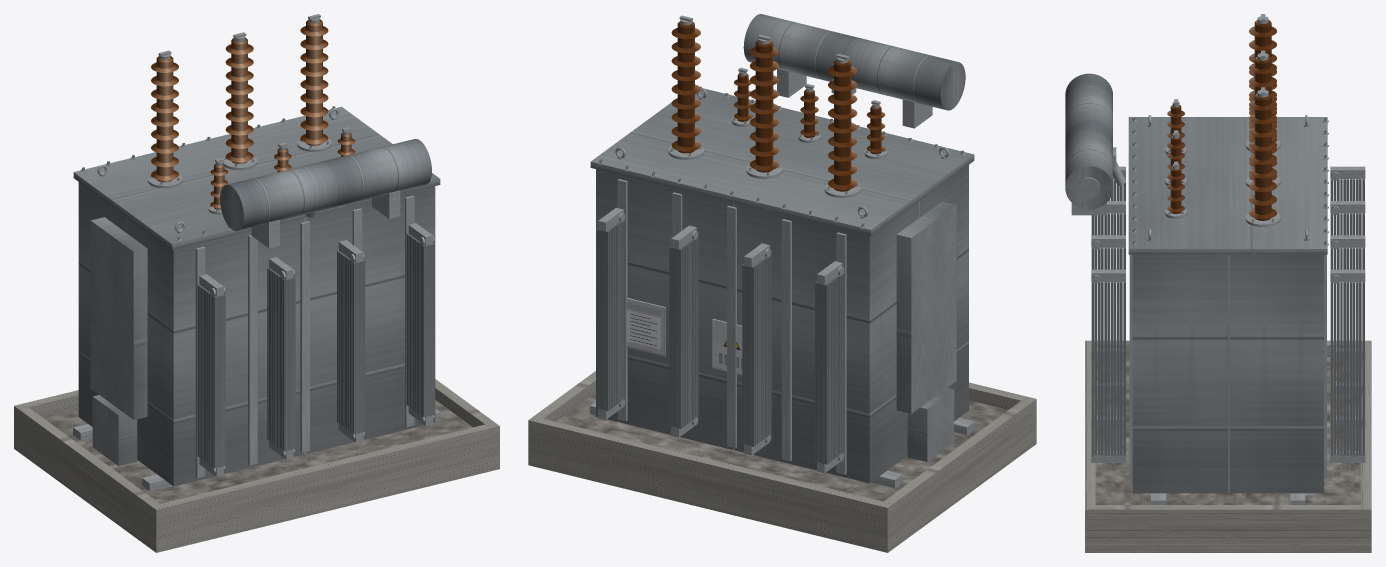
File: tx_substation.obj
The picture shows the model from 3 angles, left to right: view 1: azimuth 30°, elevation 25°; view 2: azimuth 150°, elevation 25°; view 3: azimuth 270°, elevation 25°; orthographic projection. The views are drawn at different scales.
Visible parts, largest first — view 1: tank, bund, radiator, cover, tapchanger, conservator, bushing_1, bushing_3, bushing_2, rails; view 2: tank, bund, cover, radiator, tapchanger, conservator, bushing_2, nameplate, bushing_3, bushing_1, rails, bushing_4 (+2 smaller); view 3: tank, bund, cover, radiator, conservator, bushing_3, bushing_2, bushing_1, bushing_6, bushing_5, bushing_4, flange_3 (+1 smaller).
Boxes of the visible parts, box(x1,y1,x2,y2) form: tank: box(78, 182, 435, 486); bund: box(14, 379, 499, 552); radiator: box(197, 223, 434, 476); cover: box(73, 106, 440, 250); tapchanger: box(90, 217, 147, 465); conservator: box(220, 139, 431, 248); bushing_1: box(151, 56, 178, 182); bushing_3: box(300, 19, 328, 145); bushing_2: box(225, 37, 253, 163); rails: box(73, 408, 440, 491); tank: box(596, 165, 968, 483); bund: box(528, 371, 1036, 552); cover: box(590, 86, 974, 235); radiator: box(596, 207, 844, 473); tapchanger: box(896, 201, 956, 461); conservator: box(743, 14, 965, 128); bushing_2: box(750, 40, 778, 172); nameplate: box(626, 298, 742, 375); bushing_3: box(671, 21, 700, 153); bushing_1: box(828, 59, 857, 191); rails: box(590, 402, 974, 488); bushing_4: box(866, 106, 885, 154); tank: box(1129, 254, 1326, 493); bund: box(1085, 340, 1371, 552); cover: box(1128, 115, 1328, 254); radiator: box(1091, 166, 1365, 462); conservator: box(1065, 73, 1112, 215); bushing_3: box(1249, 93, 1276, 220); bushing_2: box(1249, 57, 1276, 180); bushing_1: box(1249, 20, 1276, 142); bushing_6: box(1167, 167, 1184, 213); bushing_5: box(1167, 136, 1184, 180); bushing_4: box(1167, 105, 1184, 148); flange_3: box(1245, 87, 1280, 226).
Size of the model in its own units: 1.84 by 2.11 by 1.41.
